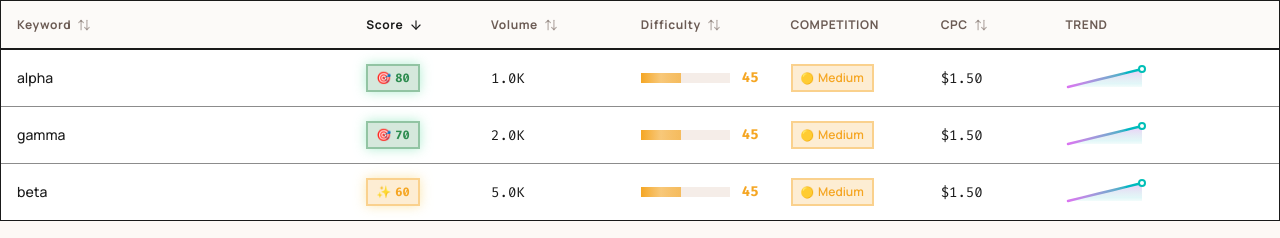
Test: KeywordTable › sorting › sorts by keyword alphabetically
Click the button "Keyword" at (54, 24), box [17,16,91,32]
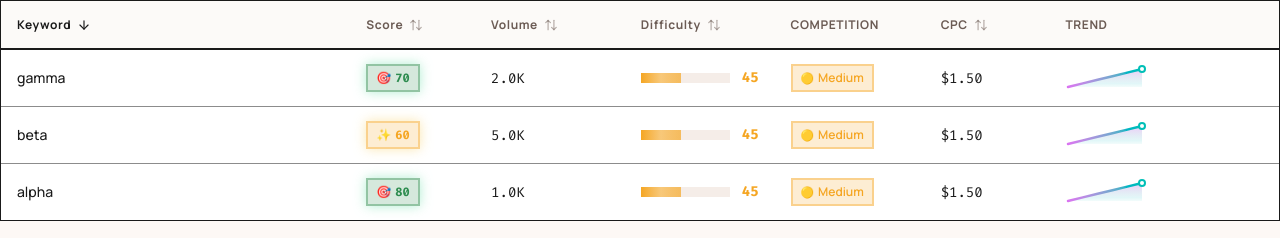
Now the row "gamma 🎯 70 2.0K 45 🟡 Medium $1.50" is shown, box [1,49,1279,106]
